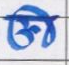i_matra: (35, 6, 52, 47)
